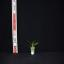leaf: (27, 41, 33, 46), (32, 40, 36, 45), (33, 43, 39, 46), (26, 45, 33, 47), (33, 45, 36, 47), (28, 47, 32, 48)
